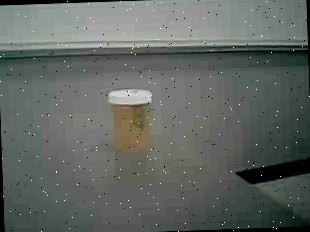Bottle B: (104, 83, 164, 160)
